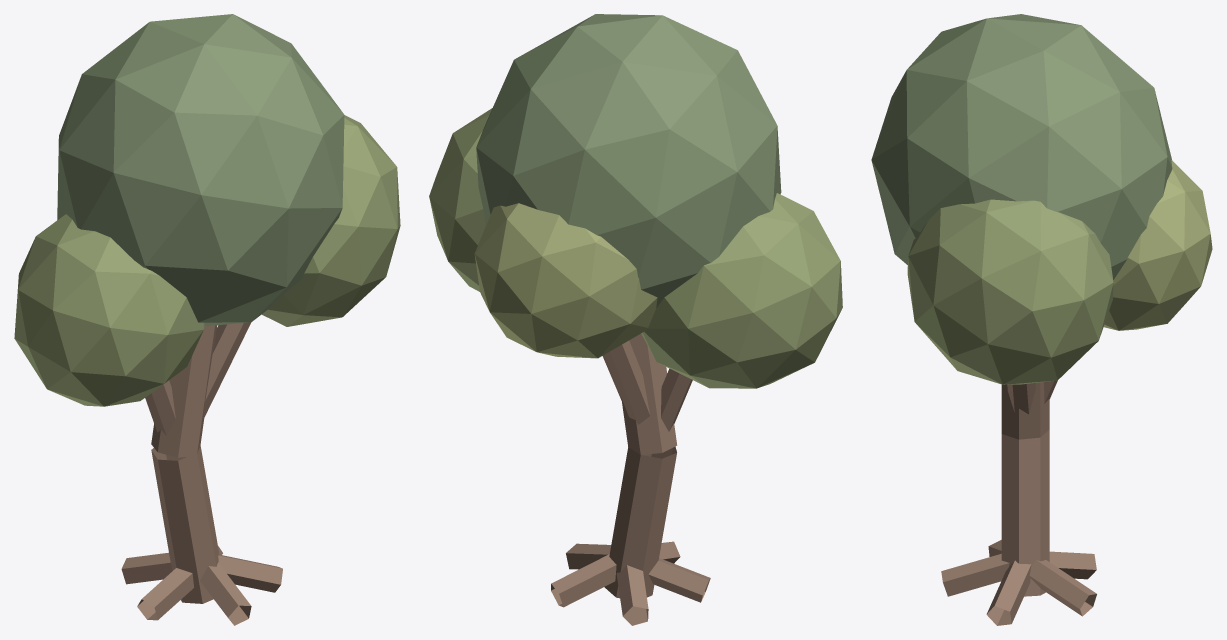
3 views of the same model, side by side, from view 1: azimuth 30°, elevation 25°; view 2: azimuth 150°, elevation 25°; view 3: azimuth 270°, elevation 25° (orthographic).
Visible parts, largest first — view 1: T15; view 2: T15; view 3: T15.
Part boxes in pixels (x1=…): T15: x1=14, y1=14, x2=400, y2=625; T15: x1=429, y1=14, x2=842, y2=625; T15: x1=871, y1=14, x2=1212, y2=625.
Size of the model in its own units: 2.77 by 3.98 by 2.16.
